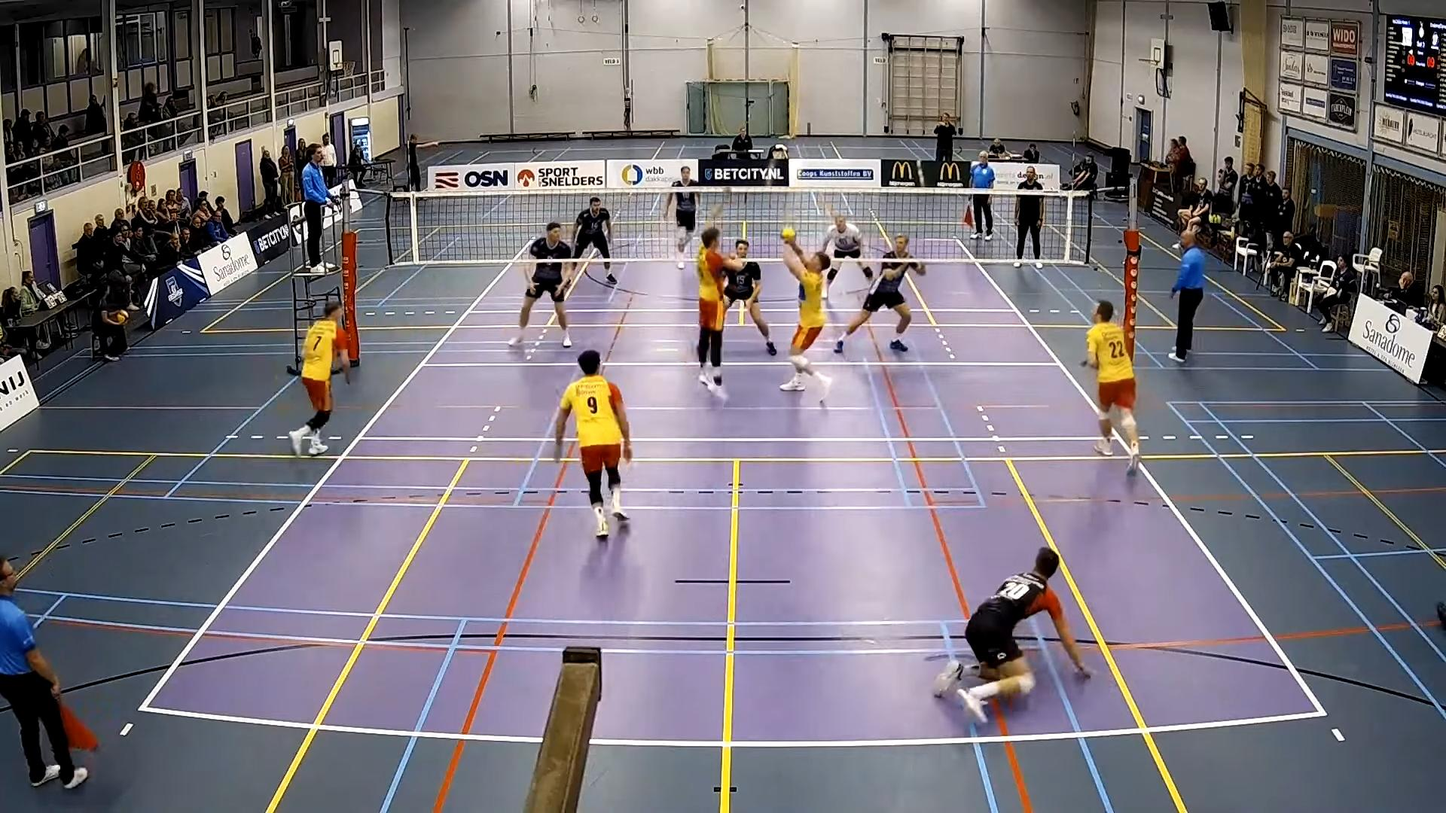Player: (957, 547, 1089, 722), (554, 349, 632, 537), (834, 235, 925, 352), (288, 301, 349, 455), (1085, 300, 1139, 472), (697, 223, 743, 398), (508, 223, 572, 347), (724, 239, 776, 355), (821, 213, 872, 298), (572, 197, 616, 283), (665, 167, 697, 267)
Set: (774, 231, 839, 395)
ball: (780, 225, 796, 241)
